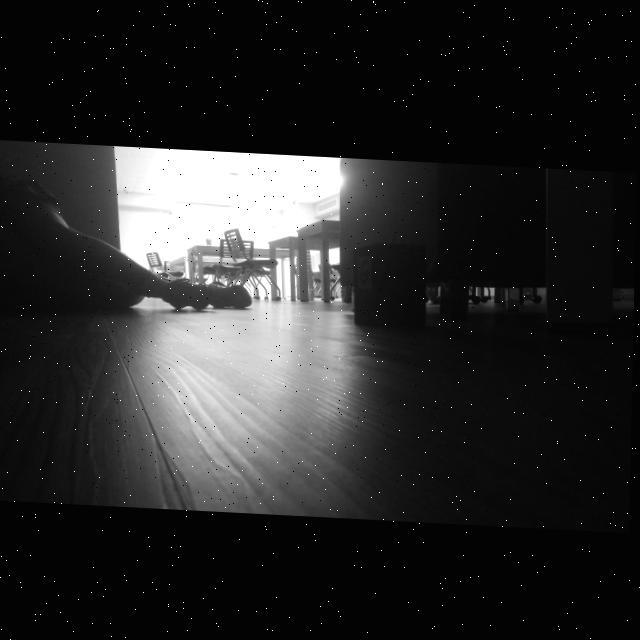G: (361, 255, 371, 280)
